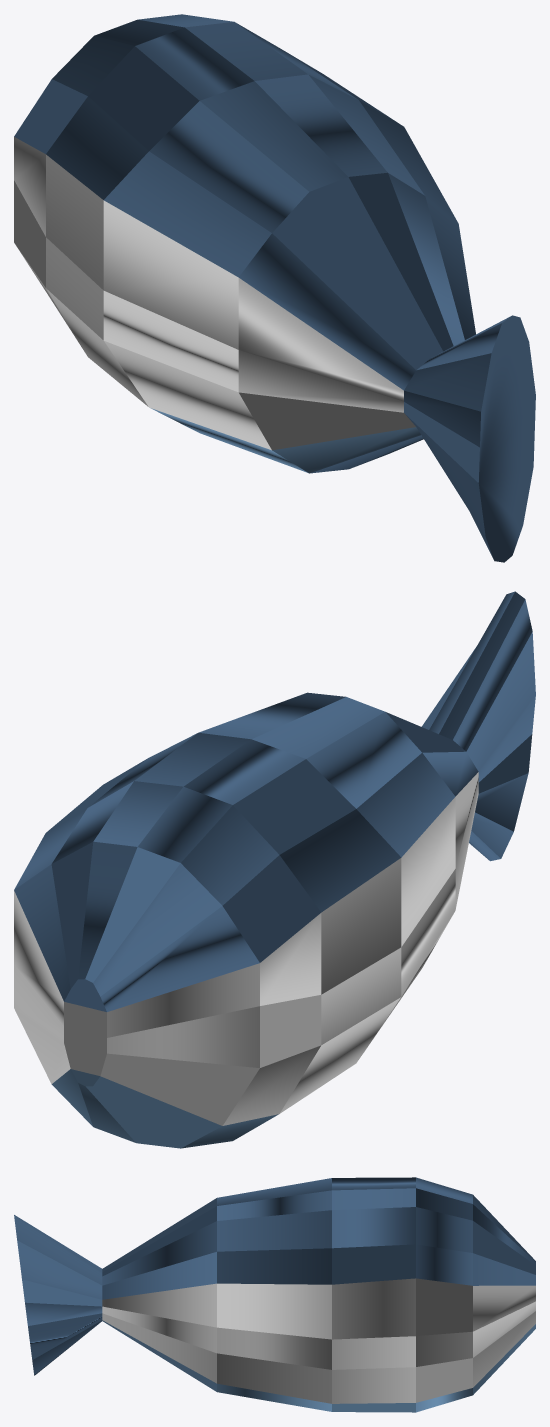
The model's file is fish10.fbx.
3 views of the same model, one above another, from view 1: azimuth 30°, elevation 25°; view 2: azimuth 150°, elevation 25°; view 3: azimuth 270°, elevation 25° (orthographic). The views are drawn at different scales.
Visible parts, largest first — view 1: Cube; view 2: Cube; view 3: Cube.
Boxes of the visible parts, x1,y1,x2,y2 form: Cube: (14,14,535,562); Cube: (14,591,535,1148); Cube: (14,1177,535,1412).
Bounding box in the file's own units: 42.19 × 47.12 × 104.
